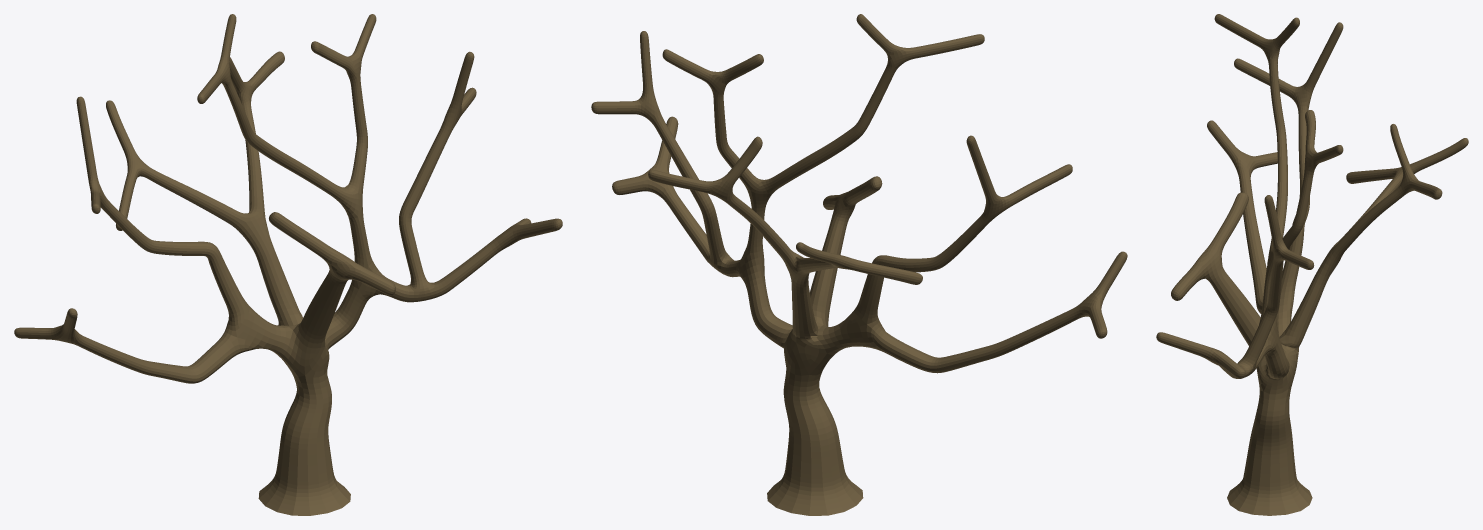
The model's file is tree2.fbx.
3 views of the same model, side by side, from view 1: azimuth 30°, elevation 25°; view 2: azimuth 150°, elevation 25°; view 3: azimuth 270°, elevation 25° (orthographic). The views are drawn at different scales.
Visible parts, largest first — view 1: Vert; view 2: Vert; view 3: Vert.
Part boxes in pixels (box(x1,y1,x2,y2)): Vert: box(14, 14, 562, 515); Vert: box(591, 14, 1127, 515); Vert: box(1156, 14, 1468, 515).
Size of the model in its own units: 388 by 364 by 227.
